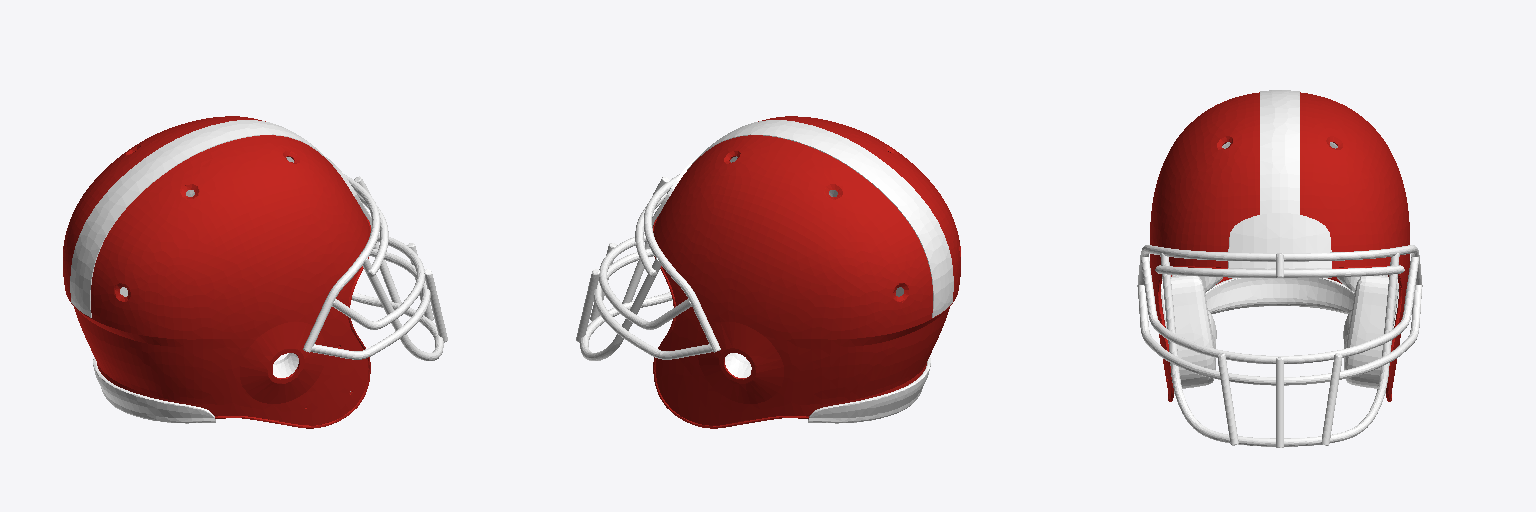
File: Football Helmet.obj
3 views of the same model, side by side, from view 1: azimuth 30°, elevation 25°; view 2: azimuth 150°, elevation 25°; view 3: azimuth 270°, elevation 25° (orthographic).
Visible parts, largest first — view 1: main_helmet, Sweep, Top_strip, Back_neck; view 2: main_helmet, Sweep, Top_strip, Back_neck; view 3: main_helmet, Sweep, side, Top_strip, Face_guard_holder, Back_neck.
Boxes of the visible parts, <box> form: main_helmet: <box>63,116,370,428</box>; Sweep: <box>303,174,447,360</box>; Top_strip: <box>70,120,336,317</box>; Back_neck: <box>93,357,215,423</box>; main_helmet: <box>653,116,960,428</box>; Sweep: <box>576,174,720,360</box>; Top_strip: <box>687,120,953,317</box>; Back_neck: <box>808,357,930,423</box>; main_helmet: <box>1150,92,1409,401</box>; Sweep: <box>1137,245,1422,447</box>; side: <box>1161,275,1398,393</box>; Top_strip: <box>1260,90,1299,214</box>; Face_guard_holder: <box>1228,213,1331,268</box>; Back_neck: <box>1205,278,1354,313</box>.
Bounding box in the file's own units: 252 × 181 × 176.